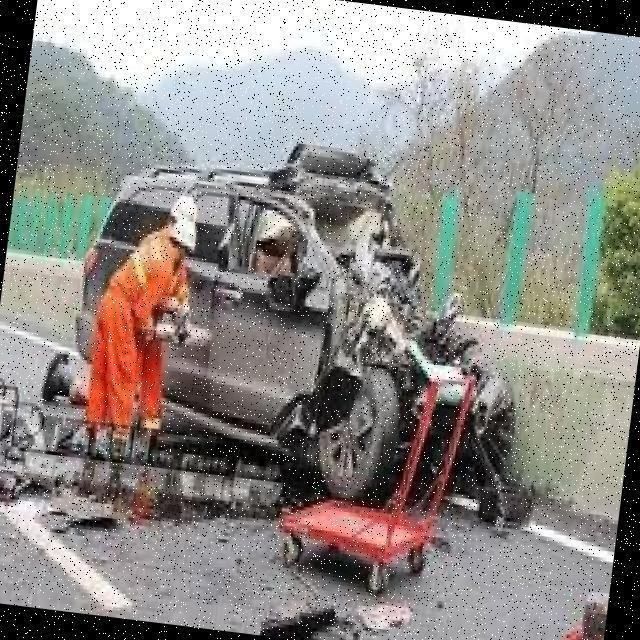accident: (184, 149, 556, 527)
